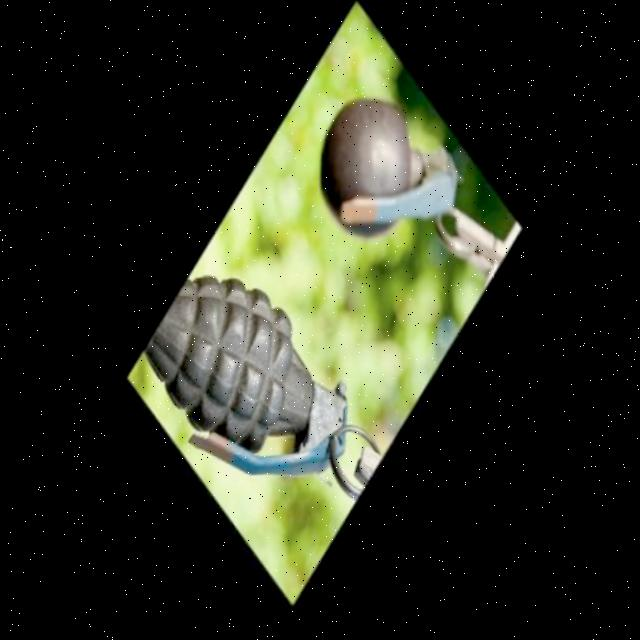grenade: (112, 243, 396, 529)
